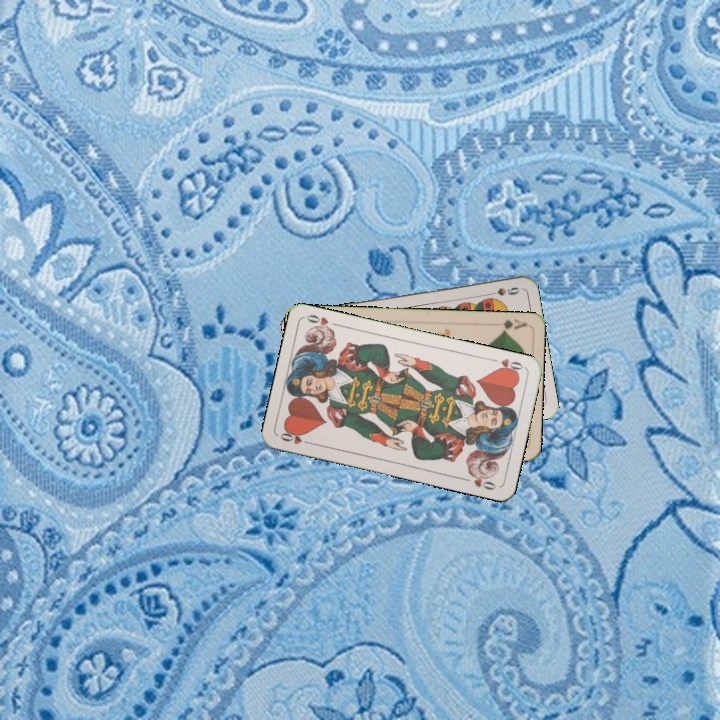GA: (498, 315, 529, 335)
HO: (487, 355, 527, 376), (276, 427, 316, 447)
S9: (482, 283, 522, 298)
